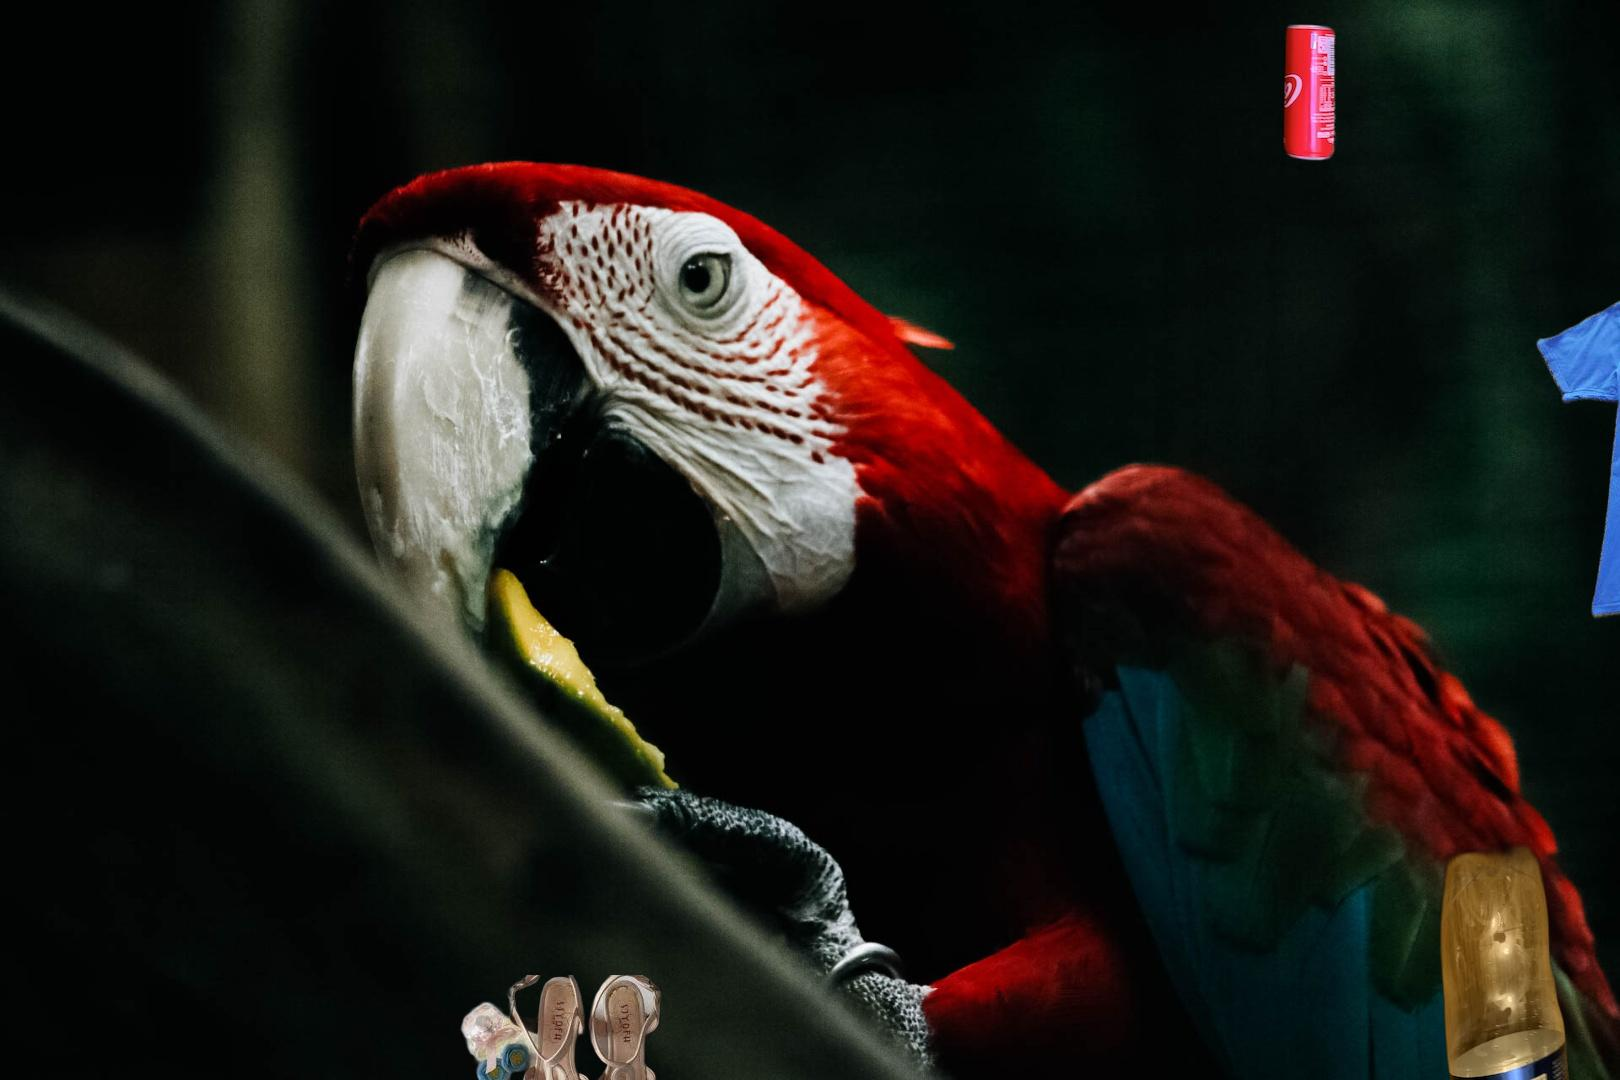clothes: (1533, 276, 1620, 626)
metal-cans: (1278, 17, 1342, 168)
plastic-bottles: (1436, 834, 1575, 1080)
shoes: (457, 975, 664, 1080)
